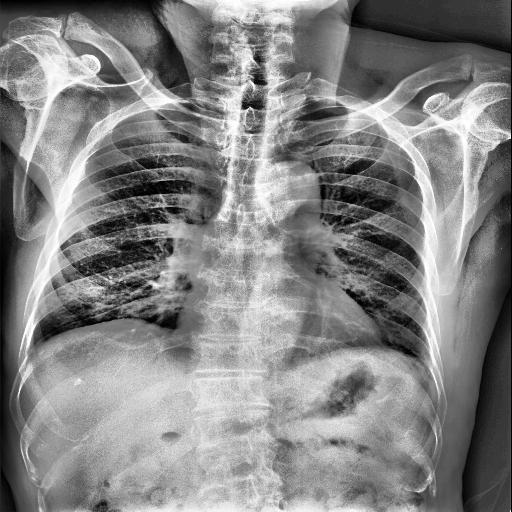0- Aortic enlargement: (256, 162, 322, 222), (263, 162, 321, 216), (270, 160, 322, 212)
11- Pleural thickening: (412, 350, 440, 388), (21, 338, 45, 375)
3- Cardiomegaly: (172, 301, 384, 353)
